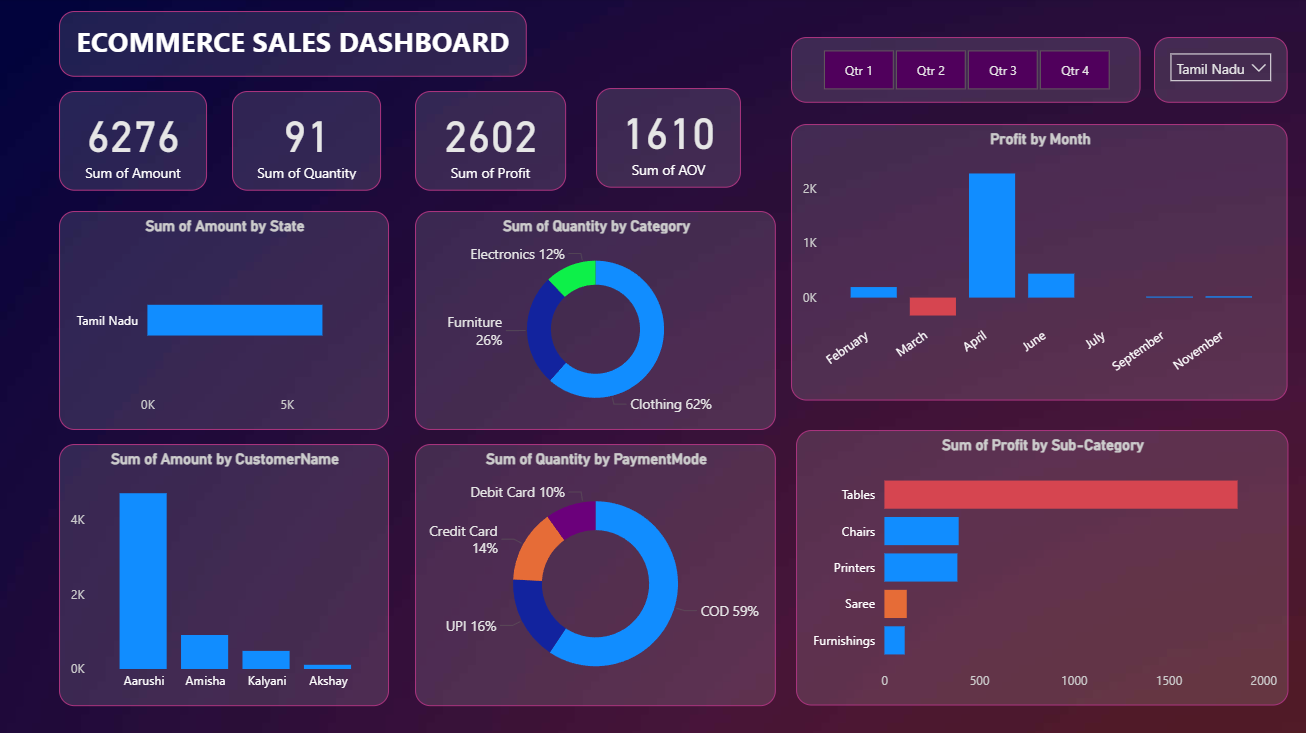

This screenshot's page, from the dashboard's own definition file:
{"tool":"powerbi","page":{"name":"Page 1","canvas":[1280,720],"ordinal":0},"visuals":[{"type":"textbox","box":[58.4,12.6,455.2,64.2],"z":0},{"type":"columnChart","title":"Profit by Month","fields":{"Category":["Orders.Order Date.Variation.Date Hierarchy.Month"],"Y":["Details.Profit"]},"box":[770.3,122.6,483.4,269.4],"z":1000},{"type":"barChart","fields":{"Category":["Details.Sub-Category"],"Y":["Details.Profit"]},"box":[775.2,420.2,478.5,268.4],"z":2000},{"type":"donutChart","fields":{"Category":["Details.Category"],"Y":["Details.Quantity"]},"box":[404.6,207.2,351.1,213],"z":3000},{"type":"donutChart","fields":{"Y":["Details.Quantity"],"Category":["Details.PaymentMode"]},"box":[404.6,433.8,351.1,254.8],"z":4000},{"type":"card","fields":{"Values":["Details.Amount"]},"box":[58.4,90.5,144,97.3],"z":5000},{"type":"card","fields":{"Values":["Details.Quantity"]},"box":[226.6,90.5,144.9,97.3],"z":6000},{"type":"card","fields":{"Values":["Details.Profit"]},"box":[404.6,90.5,146.9,97.3],"z":7000},{"type":"card","fields":{"Values":["Details.AOV"]},"box":[580.7,87.5,141,97.3],"z":8000},{"type":"barChart","fields":{"Category":["Orders.State"],"Y":["Details.Amount"]},"box":[58.4,207.2,321,213],"z":9000},{"type":"columnChart","fields":{"Category":["Orders.CustomerName"],"Y":["Details.Amount"]},"box":[58.4,433.8,321,254.8],"z":10000},{"type":"slicer","fields":{"Values":["Orders.Order Date.Variation.Date Hierarchy.Quarter"]},"box":[770.3,37.9,340.4,64.2],"z":11000},{"type":"slicer","fields":{"Values":["Orders.State"]},"box":[1123.4,37.9,130.3,64.2],"z":12000}]}

Visuals, with their boxes in screenshot pixels (x1, y1, x2, y2), scaled from the page's 1280x720 canvas onto the 1306x733 screenshot:
textbox: l=60, t=13, r=524, b=78
"Profit by Month" columnChart: l=786, t=125, r=1279, b=399
barChart - Details.Sub-Category x Details.Profit: l=791, t=428, r=1279, b=701
donutChart - Details.Category x Details.Quantity: l=413, t=211, r=771, b=428
donutChart - Details.Quantity x Details.PaymentMode: l=413, t=442, r=771, b=701
card - Details.Amount: l=60, t=92, r=207, b=191
card - Details.Quantity: l=231, t=92, r=379, b=191
card - Details.Profit: l=413, t=92, r=563, b=191
card - Details.AOV: l=592, t=89, r=736, b=188
barChart - Orders.State x Details.Amount: l=60, t=211, r=387, b=428
columnChart - Orders.CustomerName x Details.Amount: l=60, t=442, r=387, b=701
slicer - Orders.Order Date.Variation.Date Hierarchy.Quarter: l=786, t=39, r=1133, b=104
slicer - Orders.State: l=1146, t=39, r=1279, b=104
